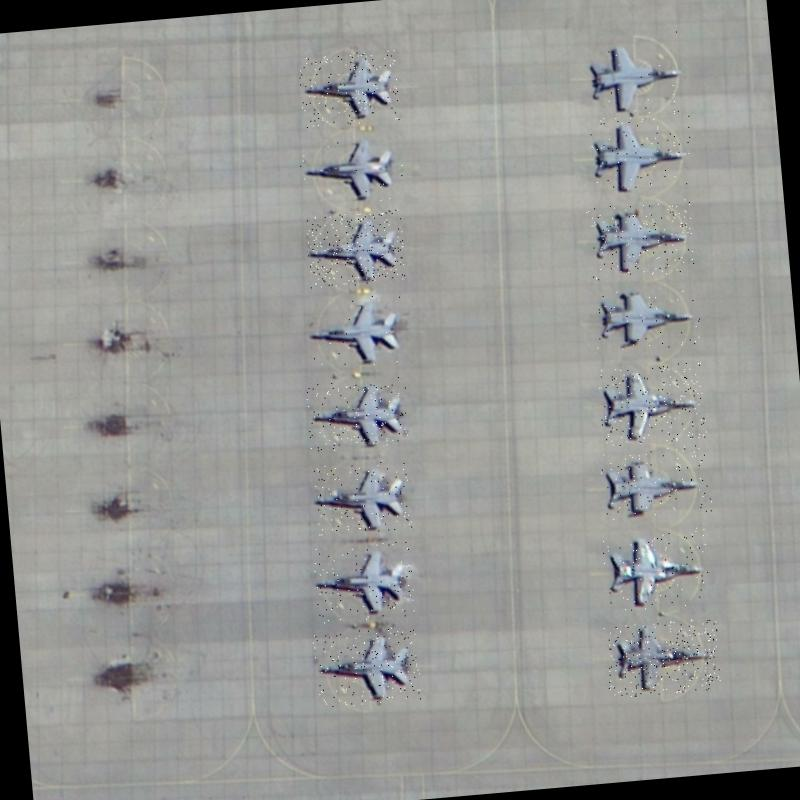A16: (596, 360, 709, 448), (604, 617, 722, 699), (602, 527, 712, 613), (586, 110, 696, 194), (312, 626, 422, 710), (580, 32, 686, 118), (586, 199, 696, 281), (296, 129, 408, 209), (599, 444, 713, 522), (304, 292, 413, 373), (312, 541, 416, 624), (305, 376, 412, 455), (304, 210, 407, 290), (308, 459, 412, 537), (298, 49, 400, 128), (590, 282, 702, 353)
